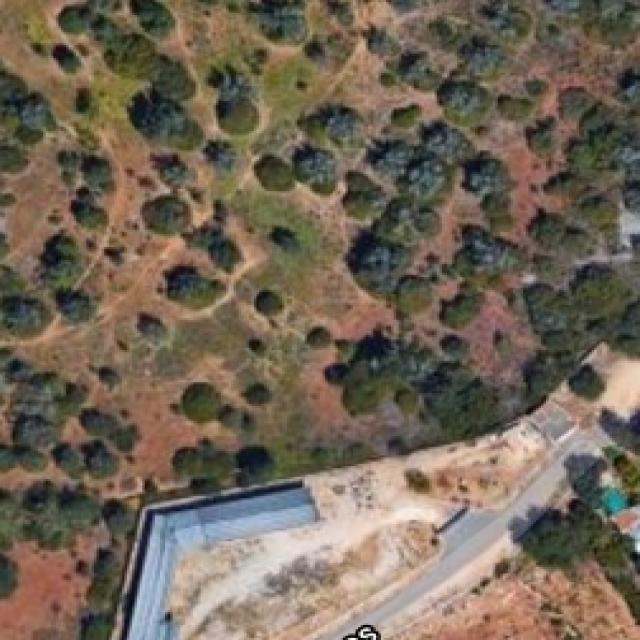pool: (598, 485, 630, 516)
